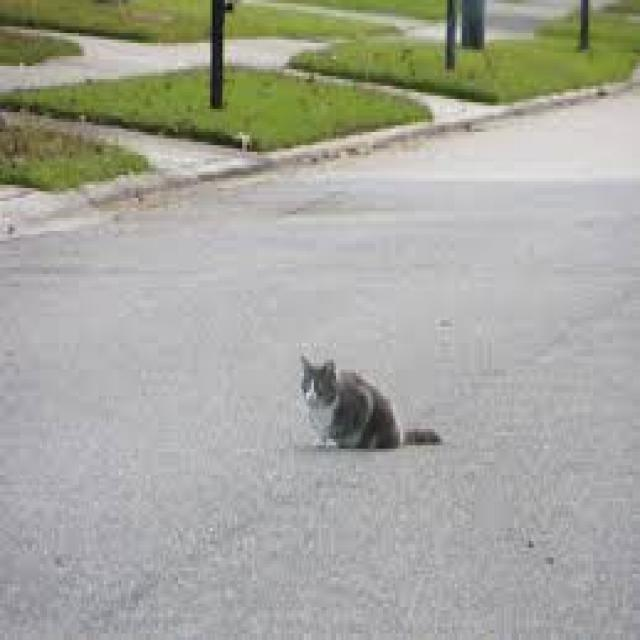Cat: (278, 352, 448, 452)
